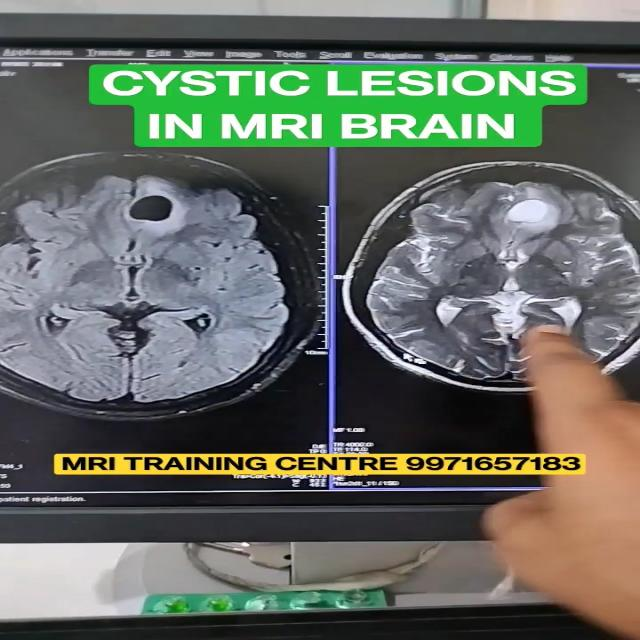tumor: (108, 170, 210, 232), (493, 187, 597, 242)
